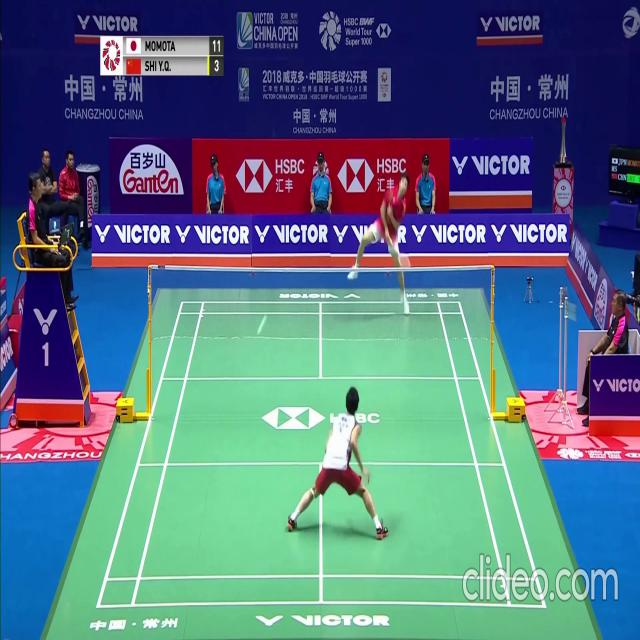Shuttlecock: (257, 327, 261, 334)
